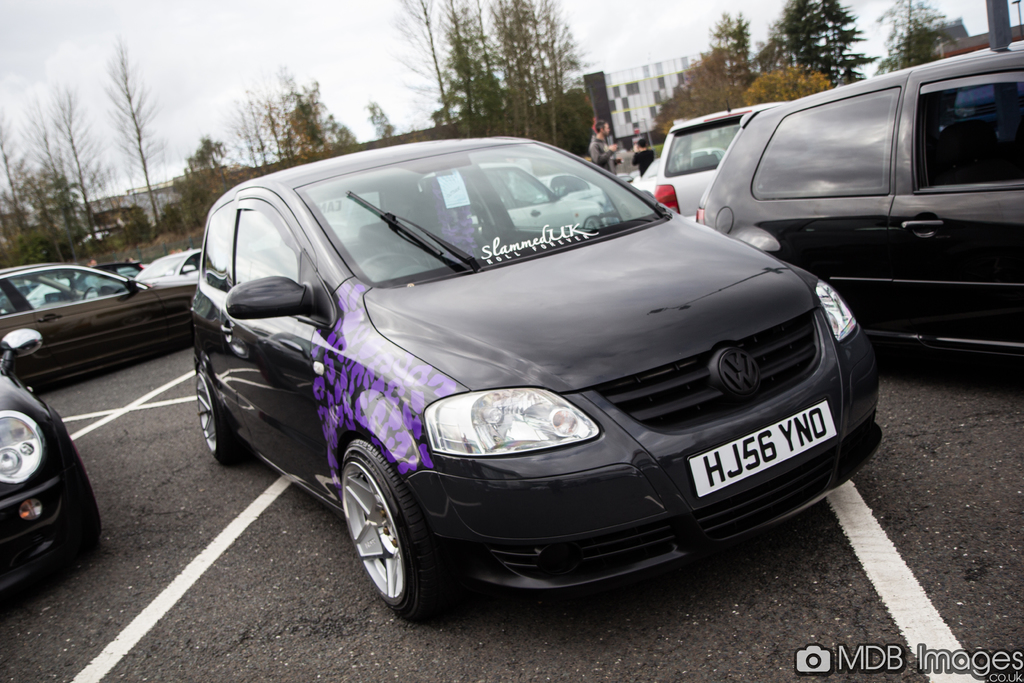mobil: (183, 132, 915, 618)
